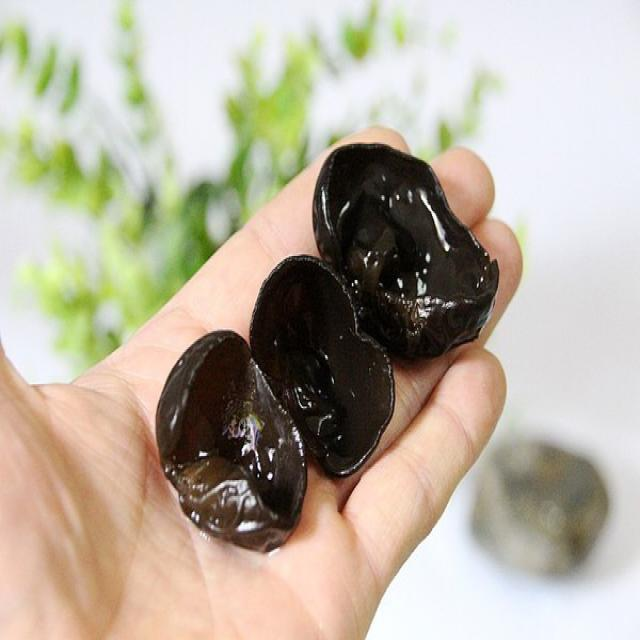Auricularia auricula: (315, 142, 501, 365), (156, 326, 305, 553), (252, 249, 398, 480)
